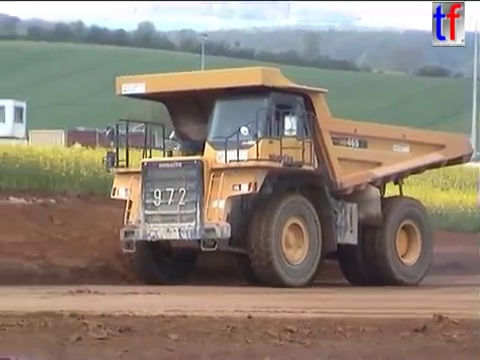truck: (100, 63, 477, 291)
